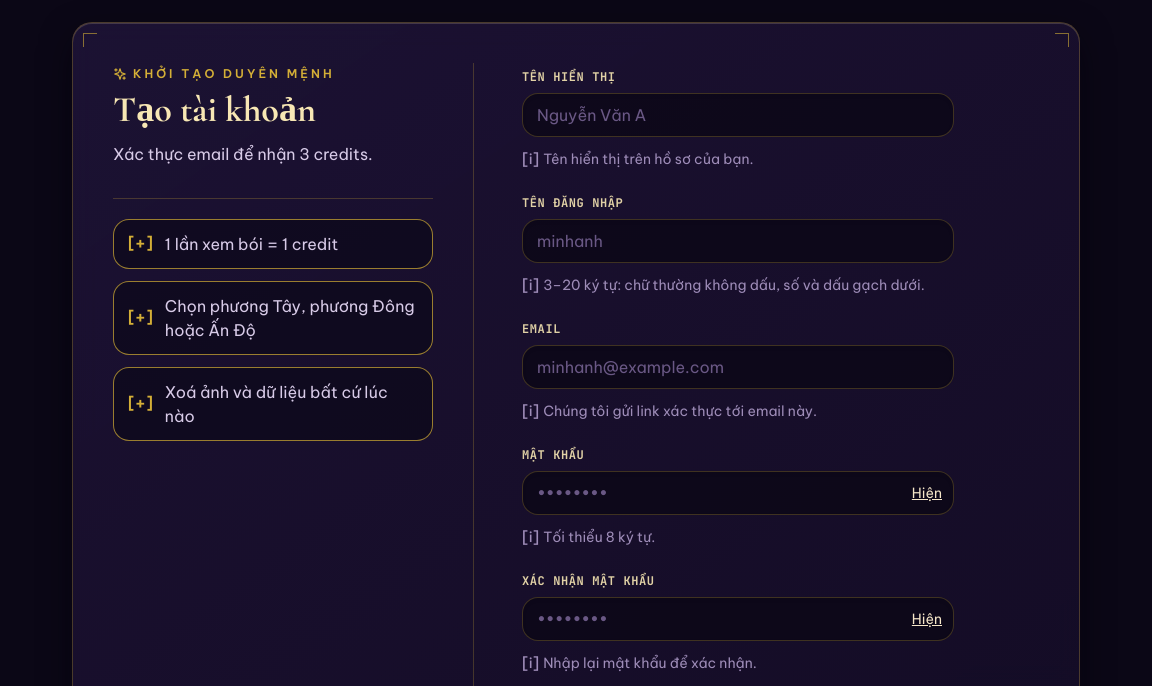
RegisterPage (Stitch Screen 59bf8c4b91a04c18a0afbf3139812e0d) › should display inline error and toaster when server responds with 409 EMAIL_TAKEN (TC-034)
Type "Trần Văn B" into the field labelled "Tên hiển thị".
click(738, 115); type("Trần Văn B")  # box [522,93,954,137]
Type "tranvanb" into the field labelled "Tên đăng nhập".
click(738, 241); type("tranvanb")  # box [522,219,954,263]
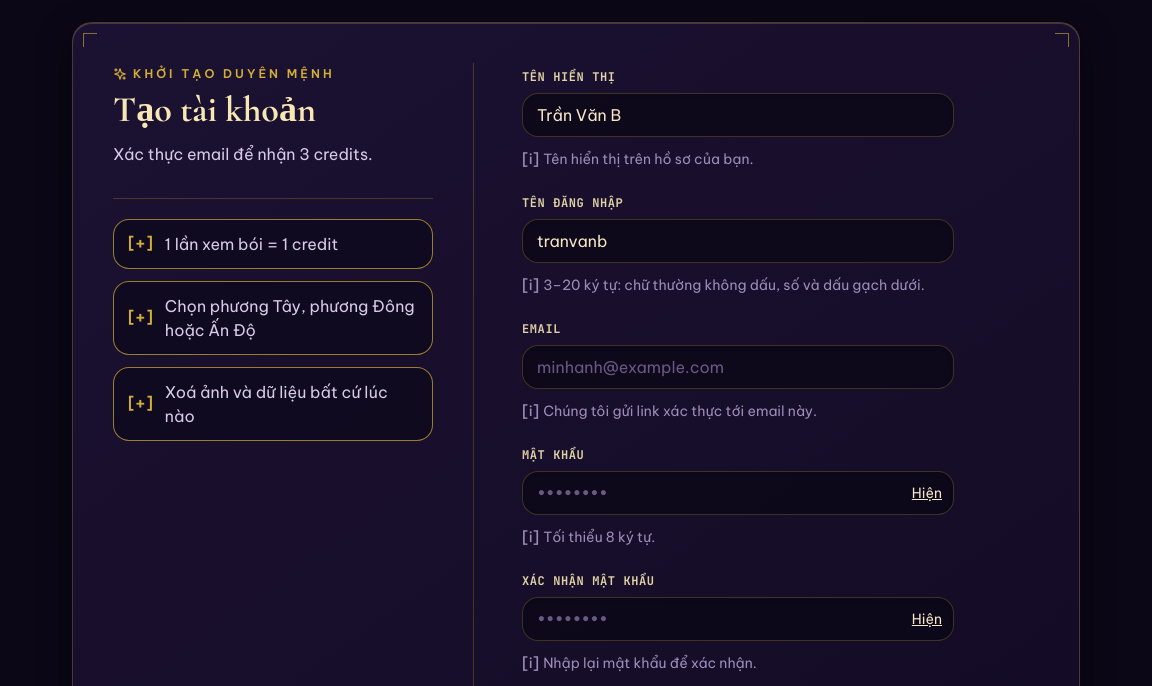
Type "existing@example.com" into the field labelled "Email".
click(738, 367); type("existing@example.com")  # box [522,345,954,389]
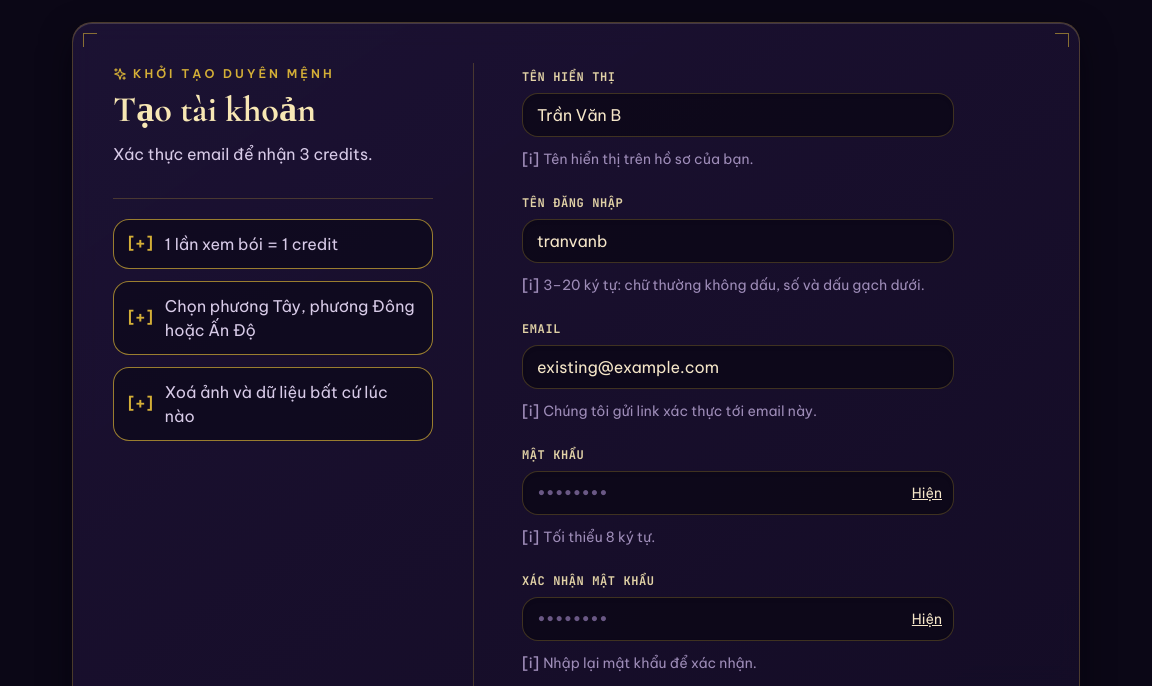
Type "BaoMat_987654" into the password field labelled "Mật khẩu".
click(738, 493); type("BaoMat_987654")  # box [522,471,954,515]
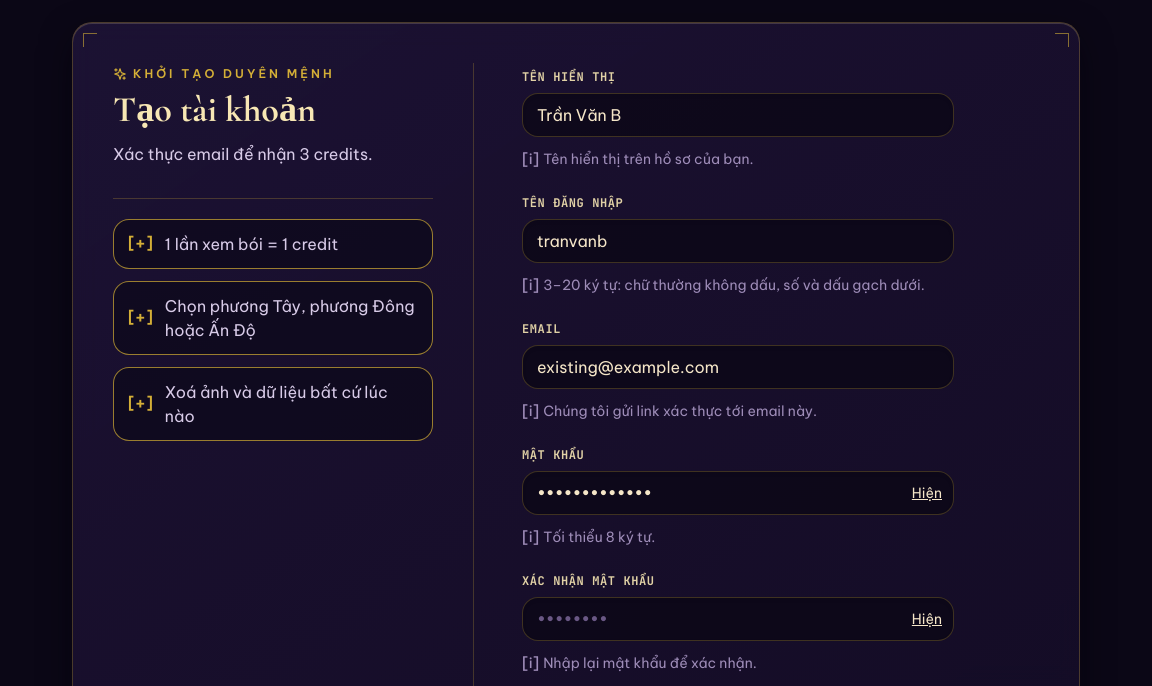
Type "BaoMat_987654" into the password field labelled "Xác nhận mật khẩu".
click(738, 619); type("BaoMat_987654")  # box [522,597,954,641]
(page scrolled)
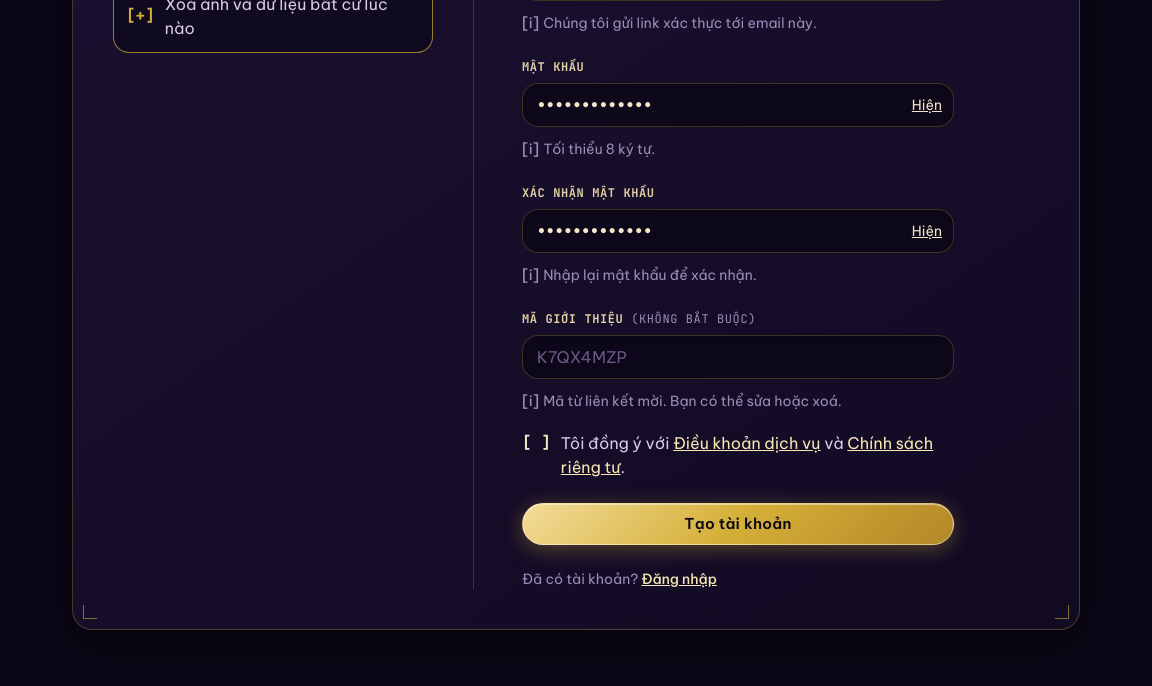
Click the checkbox labelled "Tôi đồng ý với".
click(738, 455)  # box [522,431,954,479]
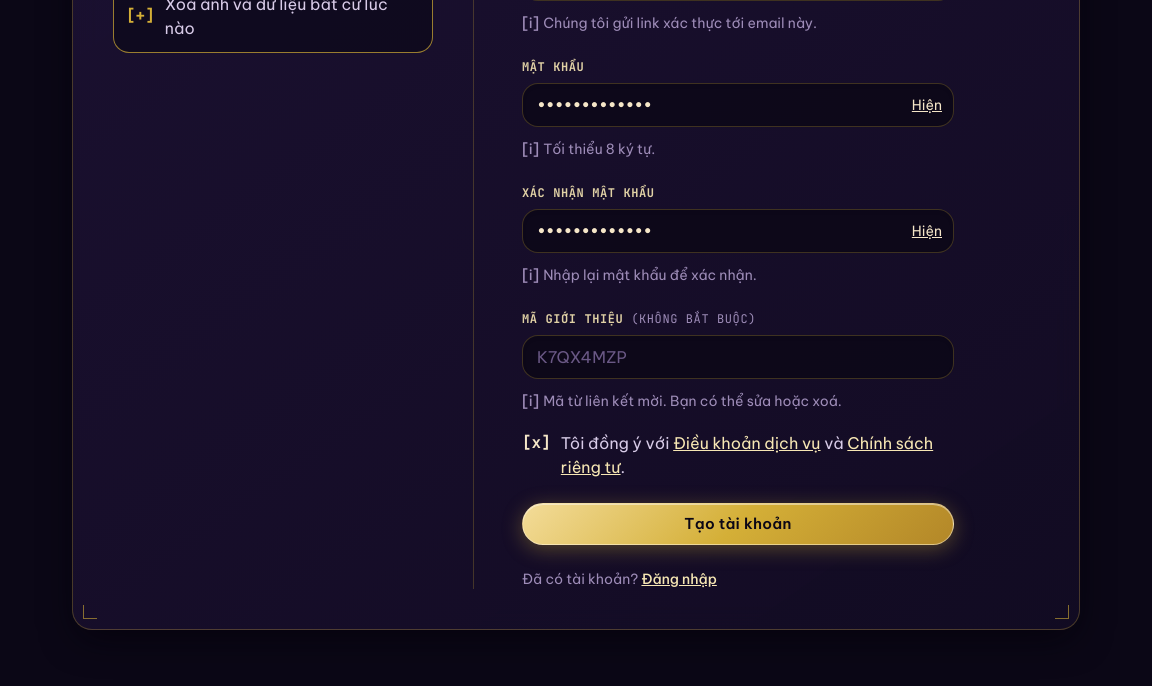
Click the button "Tạo tài khoản".
click(738, 524)  # box [522,503,954,545]
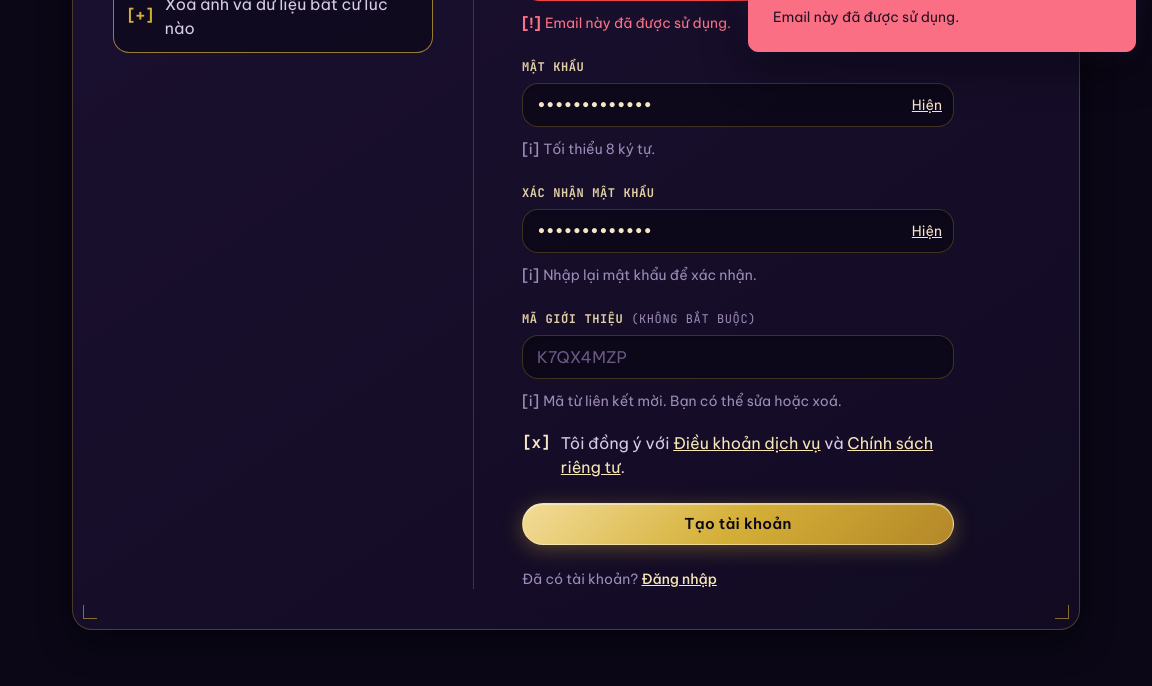
expect the element with test id "error-email" shows "Email này đã được sử dụng.": met, box [545,14,731,32]
